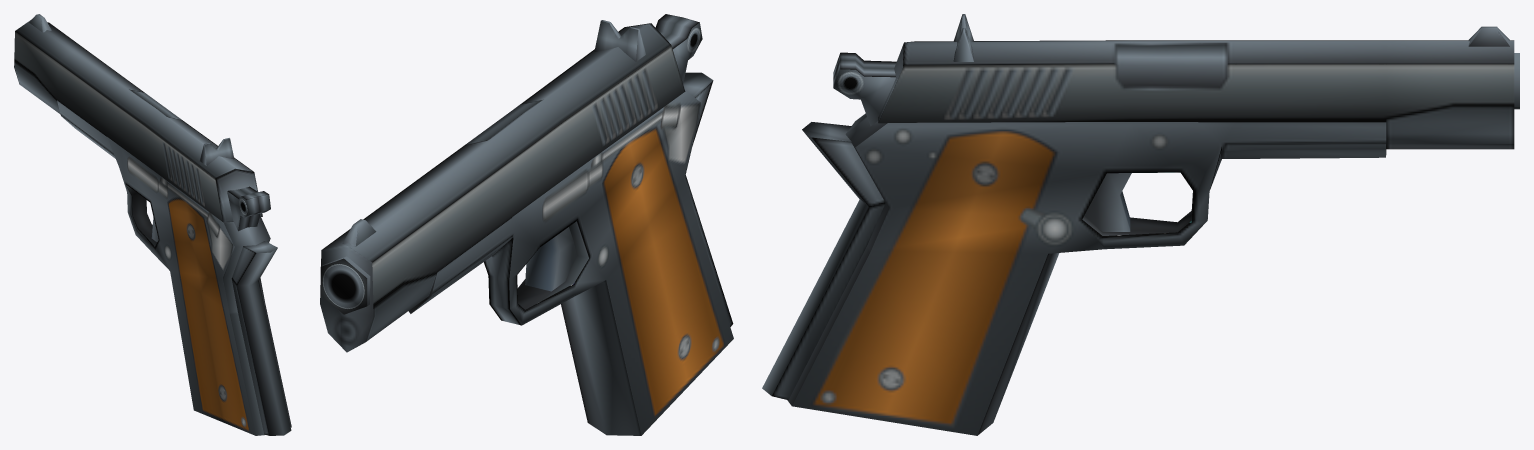
The picture shows the model from 3 angles, left to right: view 1: azimuth 30°, elevation 25°; view 2: azimuth 150°, elevation 25°; view 3: azimuth 270°, elevation 25°; orthographic projection. The views are drawn at different scales.
Parts seen in each view (by area): view 1: body, mover_slide; view 2: body, mover_slide; view 3: body, mover_slide.
Boxes of the visible parts, x1,y1,x2,y2 form: body: (14,14,291,435); mover_slide: (14,20,262,222); body: (320,14,733,435); mover_slide: (320,23,685,352); body: (762,14,1519,435); mover_slide: (878,40,1514,149).
Bounding box in the file's own units: 0.0186 × 0.1322 × 0.2269.
Materials: 1 (1 with a texture image).
